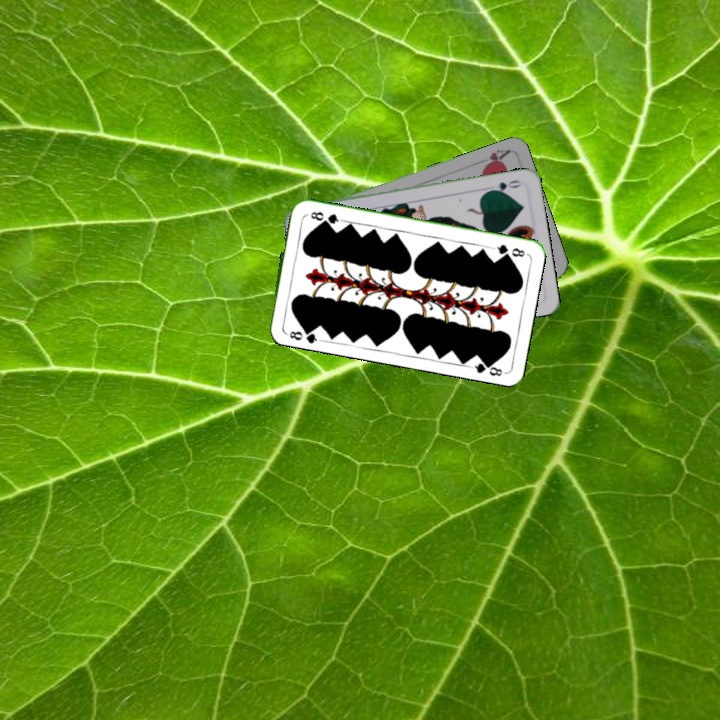G8: (281, 323, 322, 345), (489, 240, 527, 259)
GO: (485, 176, 523, 195)
HA: (473, 145, 512, 171)
